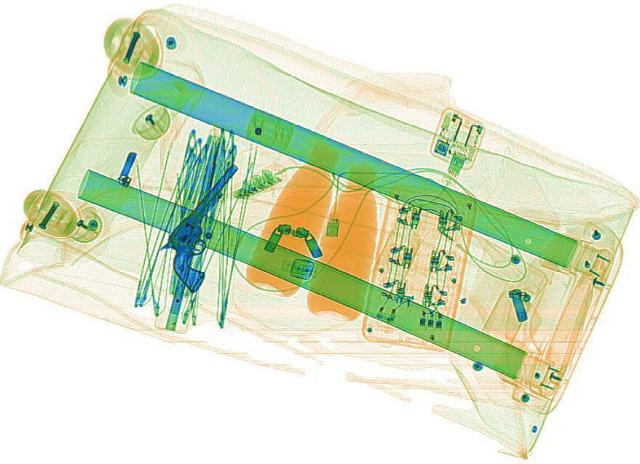Gun: (134, 163, 286, 291)
